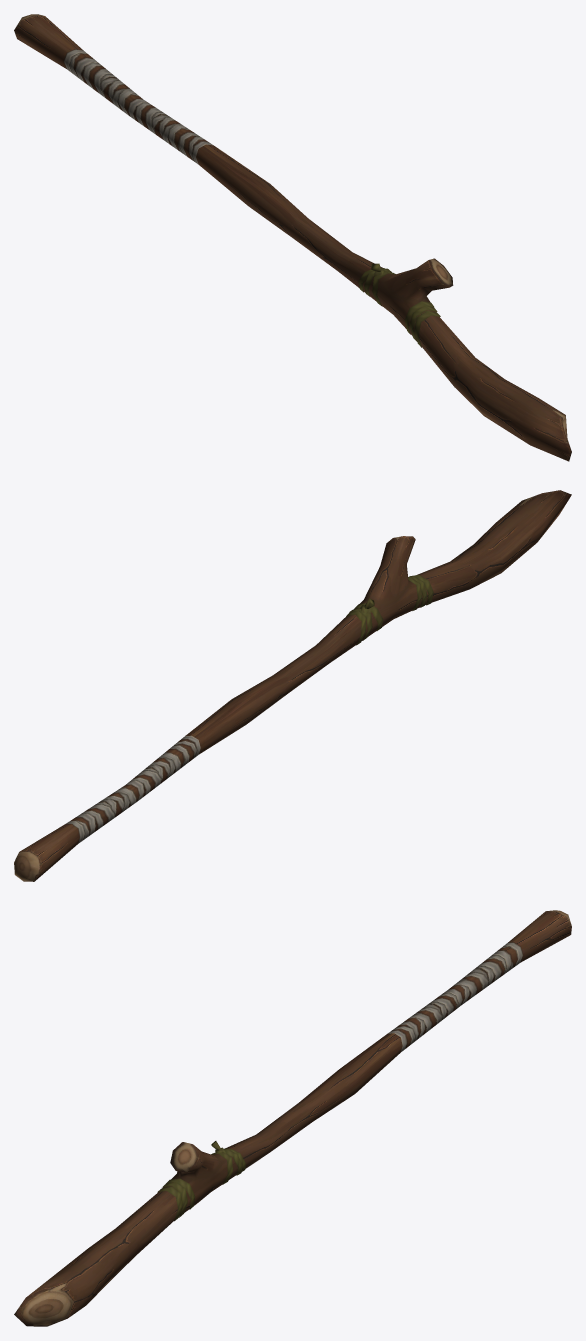
The model's file is Weapon_Spear_004.glb.
3 views of the same model, one above another, from view 1: azimuth 30°, elevation 25°; view 2: azimuth 150°, elevation 25°; view 3: azimuth 330°, elevation 25° (orthographic). The views are drawn at different scales.
Visible parts, largest first — view 1: Weapon_Spear_004; view 2: Weapon_Spear_004; view 3: Weapon_Spear_004.
Part boxes in pixels (x1,y1,x2,y2): Weapon_Spear_004: (14,14,571,461); Weapon_Spear_004: (14,490,571,881); Weapon_Spear_004: (14,910,571,1326).
Size of the model in its own units: 0.1302 by 0.2527 by 2.69.
1 material, 1 textured.
